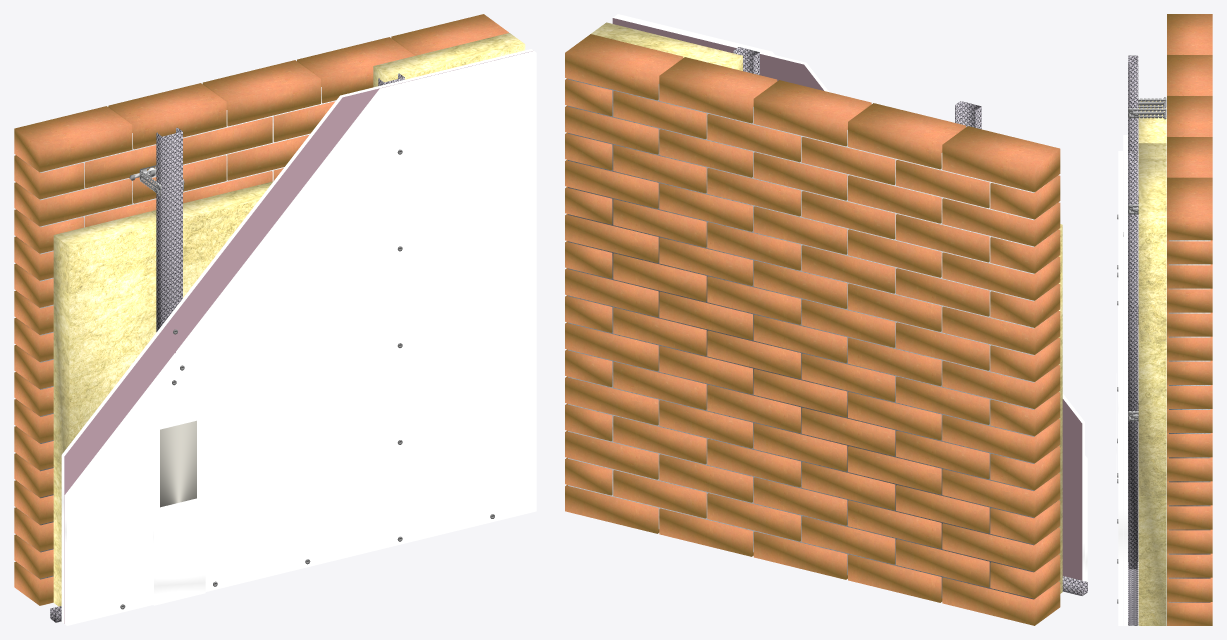
The model's file is oblizovka.gltf.
3 views of the same model, side by side, from view 1: azimuth 30°, elevation 25°; view 2: azimuth 150°, elevation 25°; view 3: azimuth 270°, elevation 25° (orthographic). The views are drawn at different scales.
Parts seen in each view (by area): view 1: Краска - Светло-Серая ГСП, Кирпич - Цвет Покрытия, Изоляция - Стекловолокно, Краска - Розовая, Краска - Белила Титановые, Металл - Перфорированный, Краска - Песок Сиенна, Штукатурка - Шероховатая Белая; view 2: Кирпич - Цвет Покрытия, Штукатурка - Шероховатая Белая, Краска - Розовая, Изоляция - Стекловолокно, Краска - Белила Титановые, Металл - Перфорированный; view 3: Кирпич - Цвет Покрытия, Изоляция - Стекловолокно, Металл - Перфорированный, Краска - Белила Титановые, Штукатурка - Шероховатая Белая, Metal_Corrogated_Shiny_59_1 (из конвертиру_4d0aa1d, Краска - Темно-Серая.
Part boxes in pixels (x1=…): Краска - Светло-Серая ГСП: x1=67, y1=53, x2=536, y2=625; Кирпич - Цвет Покрытия: x1=14, y1=14, x2=508, y2=605; Изоляция - Стекловолокно: x1=53, y1=33, x2=525, y2=606; Краска - Розовая: x1=64, y1=51, x2=532, y2=623; Краска - Белила Титановые: x1=61, y1=49, x2=536, y2=625; Металл - Перфорированный: x1=50, y1=73, x2=404, y2=622; Краска - Песок Сиенна: x1=160, y1=420, x2=196, y2=507; Штукатурка - Шероховатая Белая: x1=17, y1=87, x2=336, y2=579; Кирпич - Цвет Покрытия: x1=565, y1=34, x2=1060, y2=625; Штукатурка - Шероховатая Белая: x1=568, y1=78, x2=1056, y2=599; Краска - Розовая: x1=612, y1=18, x2=1082, y2=580; Изоляция - Стекловолокно: x1=591, y1=22, x2=1062, y2=593; Краска - Белила Титановые: x1=613, y1=14, x2=1087, y2=581; Металл - Перфорированный: x1=733, y1=47, x2=1087, y2=595; Кирпич - Цвет Покрытия: x1=1167, y1=14, x2=1212, y2=625; Изоляция - Стекловолокно: x1=1138, y1=101, x2=1166, y2=625; Металл - Перфорированный: x1=1128, y1=55, x2=1138, y2=625; Краска - Белила Титановые: x1=1116, y1=135, x2=1127, y2=625; Штукатурка - Шероховатая Белая: x1=1169, y1=240, x2=1210, y2=602; Metal_Corrogated_Shiny_59_1 (из конвертиру_4d0aa1d: x1=1128, y1=98, x2=1166, y2=421; Краска - Темно-Серая: x1=1117, y1=97, x2=1165, y2=603.
Bounding box in the file's own units: 1.29 × 1.19 × 0.253.
Materials: 11 (5 with a texture image).
